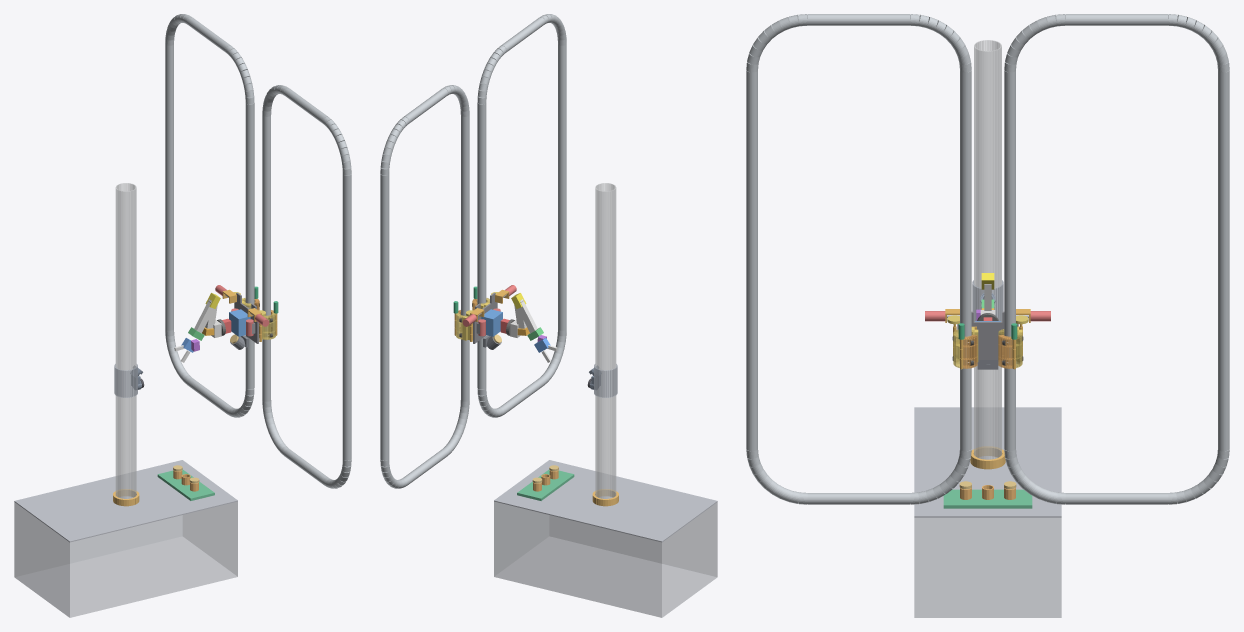
The model's file is transplant-seedling-step3-plug-v4.glb.
The picture shows the model from 3 angles, left to right: view 1: azimuth 30°, elevation 25°; view 2: azimuth 150°, elevation 25°; view 3: azimuth 270°, elevation 25°; orthographic projection. The views are drawn at different scales.
Bounding box in the file's own units: 0.94 × 1.9 × 1.31.
